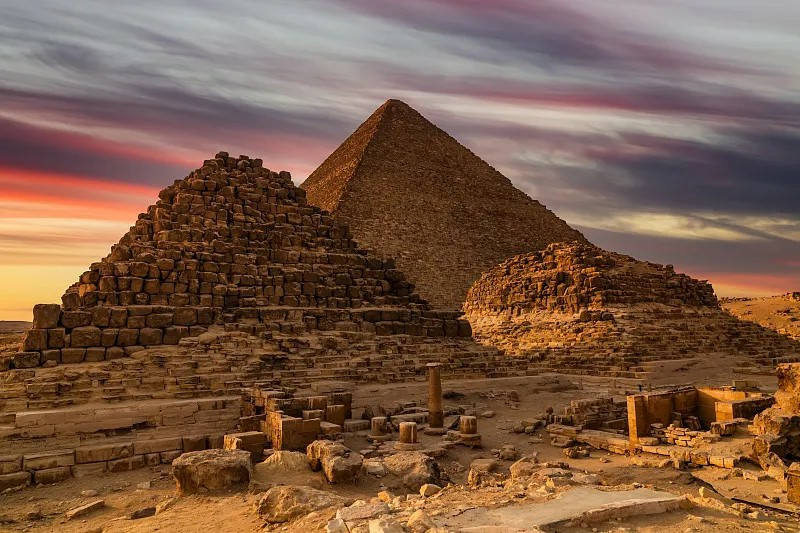Pyramid: (21, 151, 476, 350), (299, 100, 598, 314), (459, 239, 797, 376)
